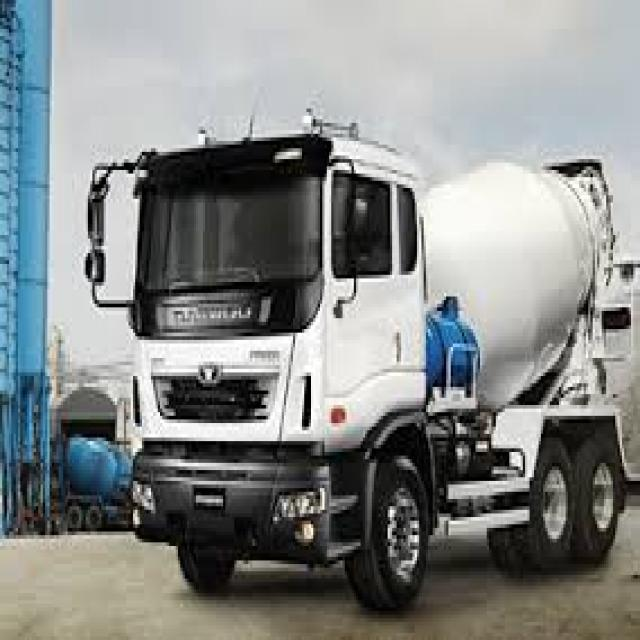Mixer Truck: (83, 111, 638, 609)
